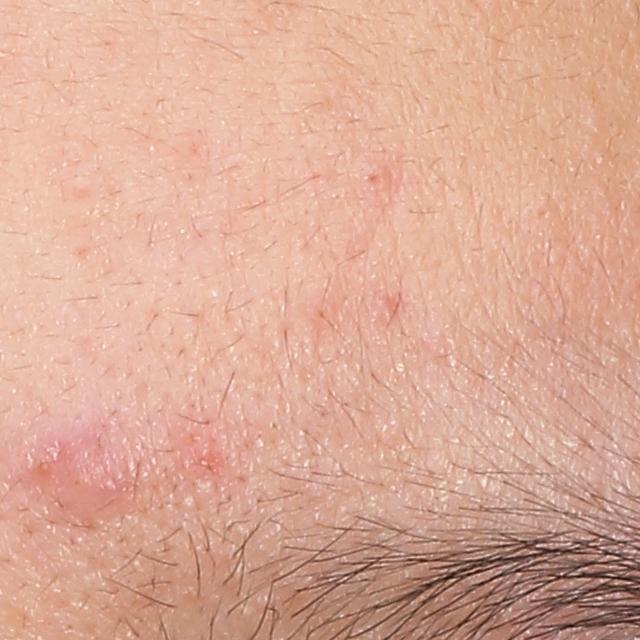papule: (30, 434, 80, 491)
